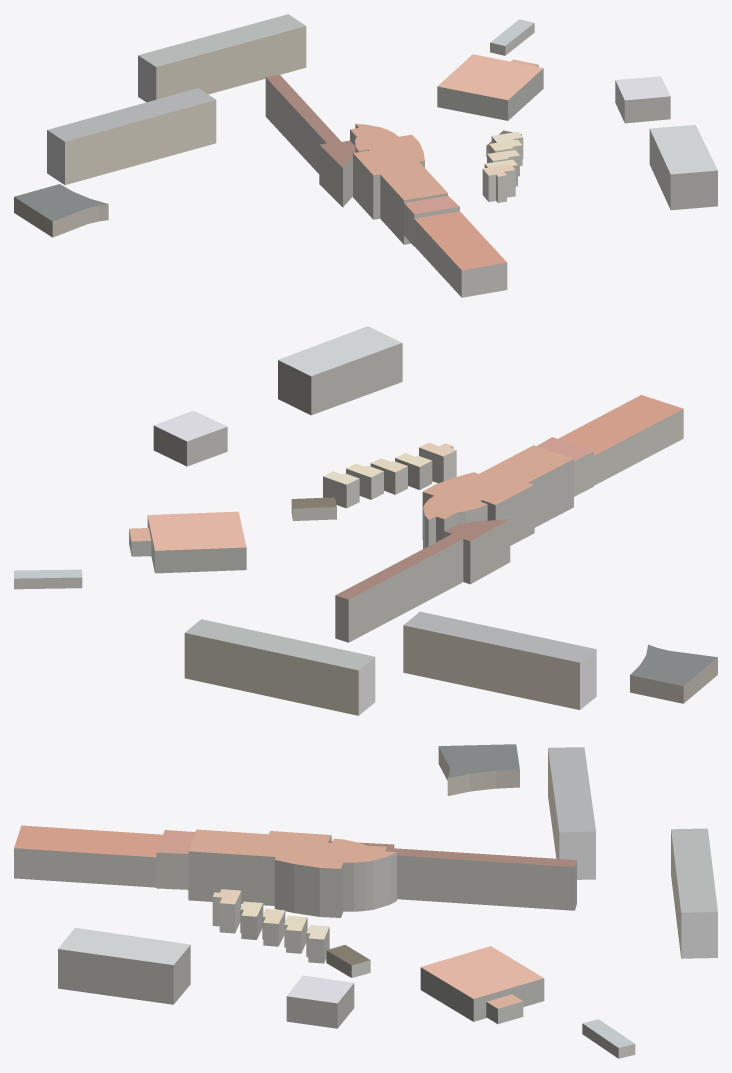
3 views of the same model, one above another, from view 1: azimuth 30°, elevation 25°; view 2: azimuth 150°, elevation 25°; view 3: azimuth 270°, elevation 25° (orthographic). The views are drawn at different scales.
Visible parts, largest first — view 1: tuile; view 2: tuile; view 3: tuile.
Part boxes in pixels (x1=…): tuile: x1=14, y1=14, x2=717, y2=297; tuile: x1=14, y1=326, x2=717, y2=715; tuile: x1=14, y1=744, x2=717, y2=1058.
Size of the model in its own units: 236 by 28.98 by 229.
